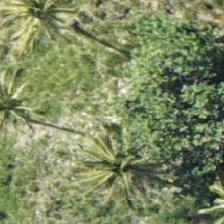coconut_tree: (72, 125, 162, 215), (0, 0, 85, 55), (0, 54, 48, 144)
